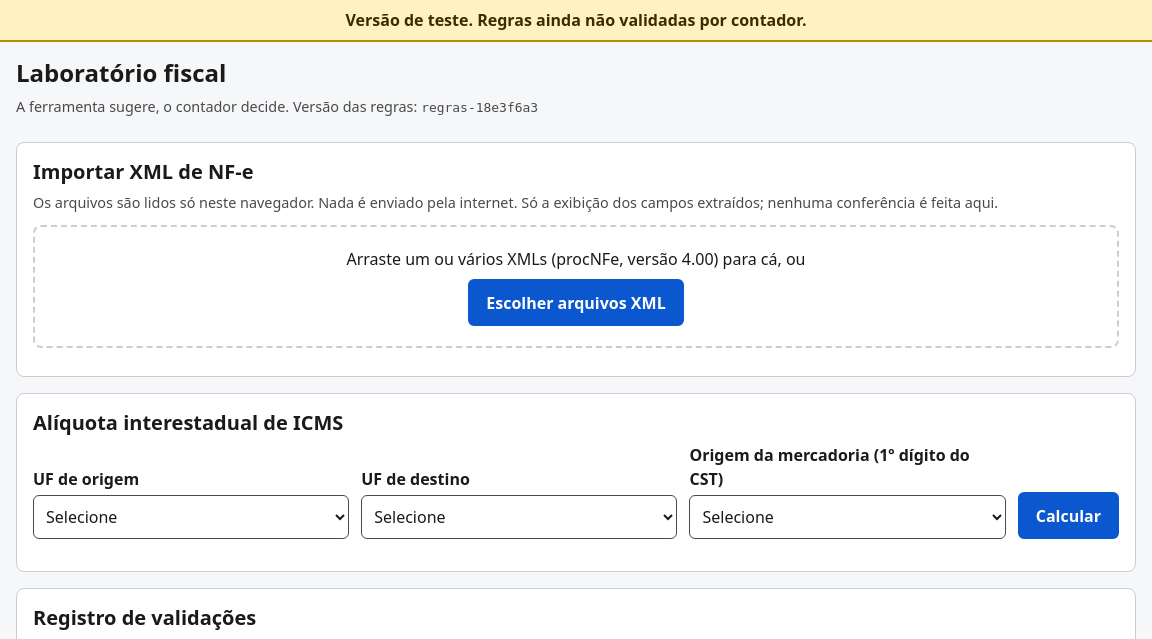
Scenario: Laboratório › mesma UF mostra erro de operação interna
Select "TO" in the dropdown labelled "UF de origem": (191, 517) [33,495,349,539]
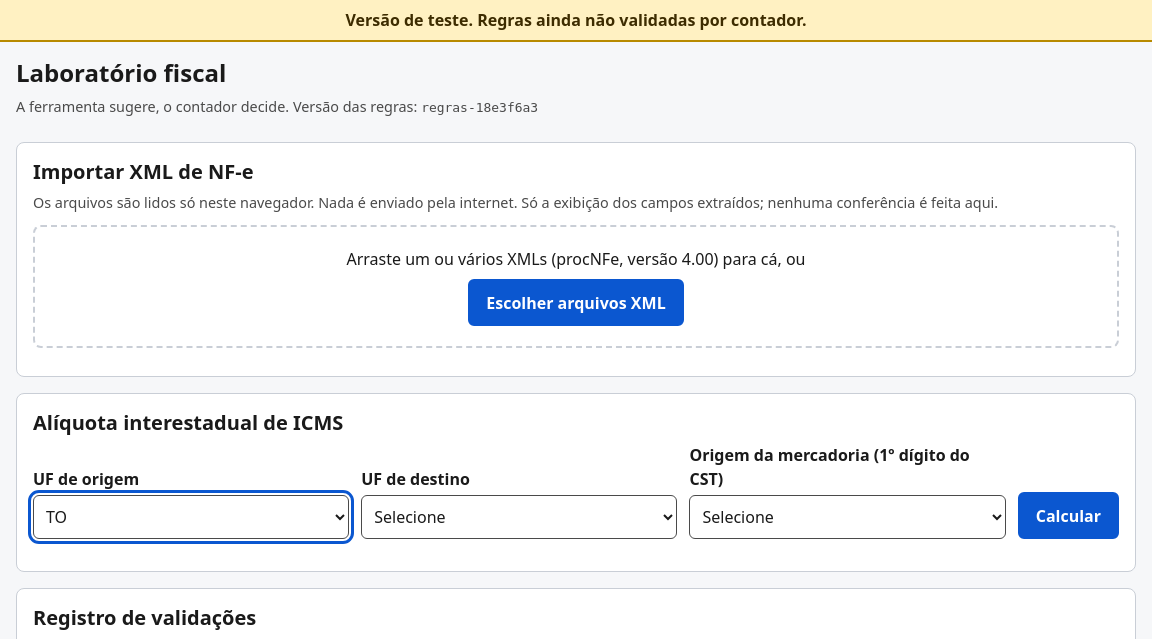
Select "TO" in the dropdown labelled "UF de destino": (519, 517) [361,495,677,539]
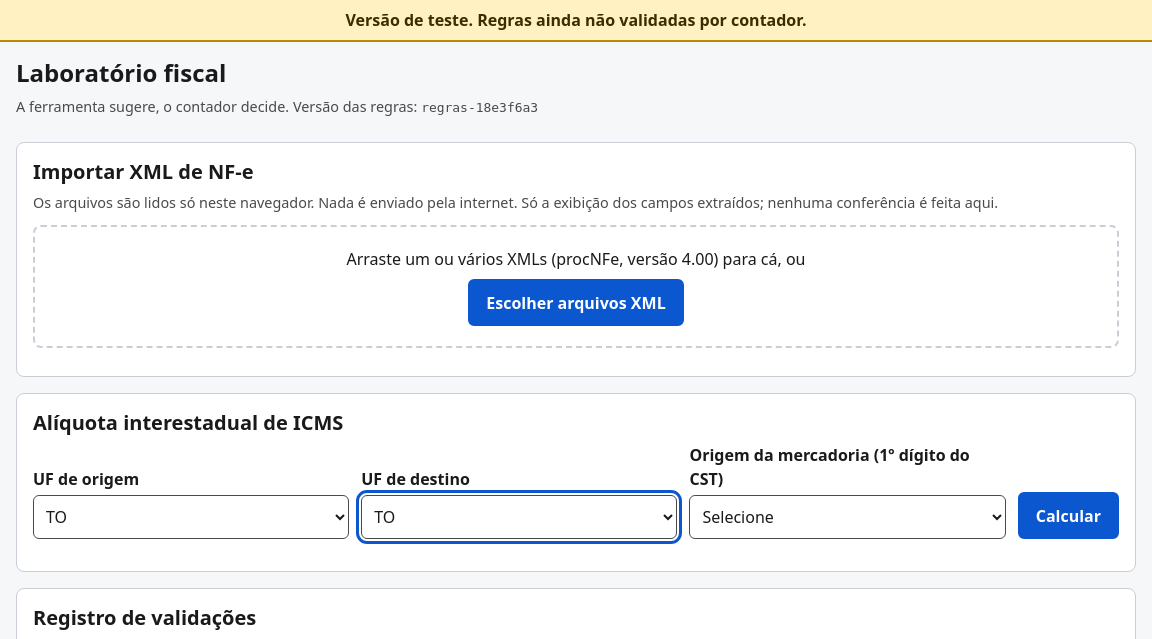
Select "0" in the dropdown labelled "Origem da mercadoria (1º dígito do CST)": (848, 517) [690,495,1006,539]
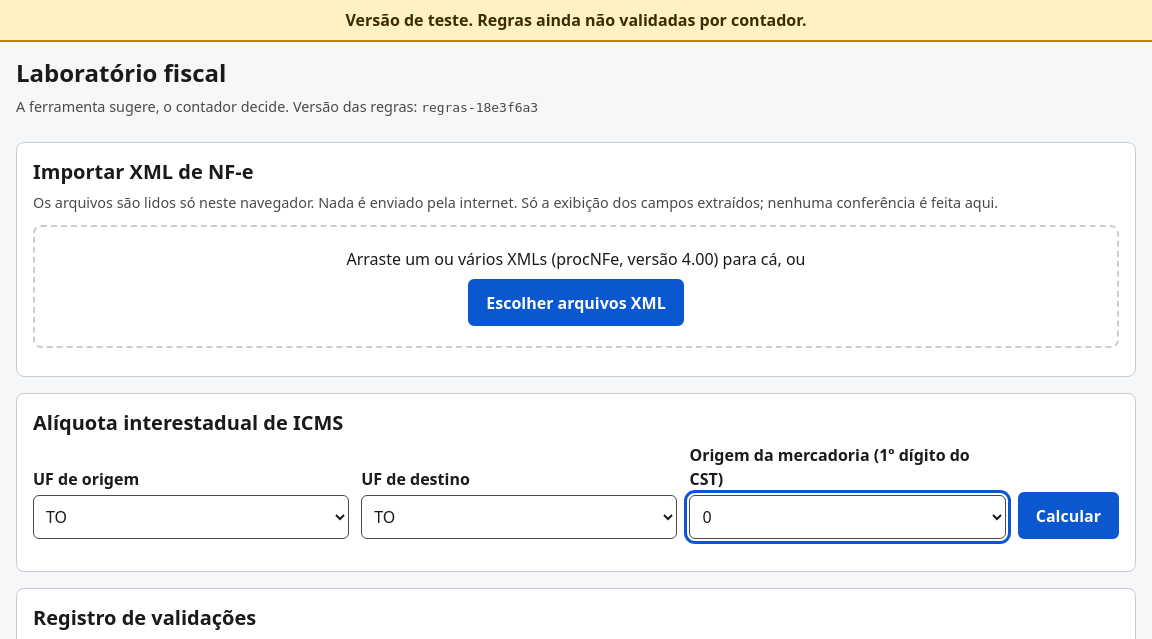
Click the button "Calcular": (1068, 516) [1018,492,1119,539]
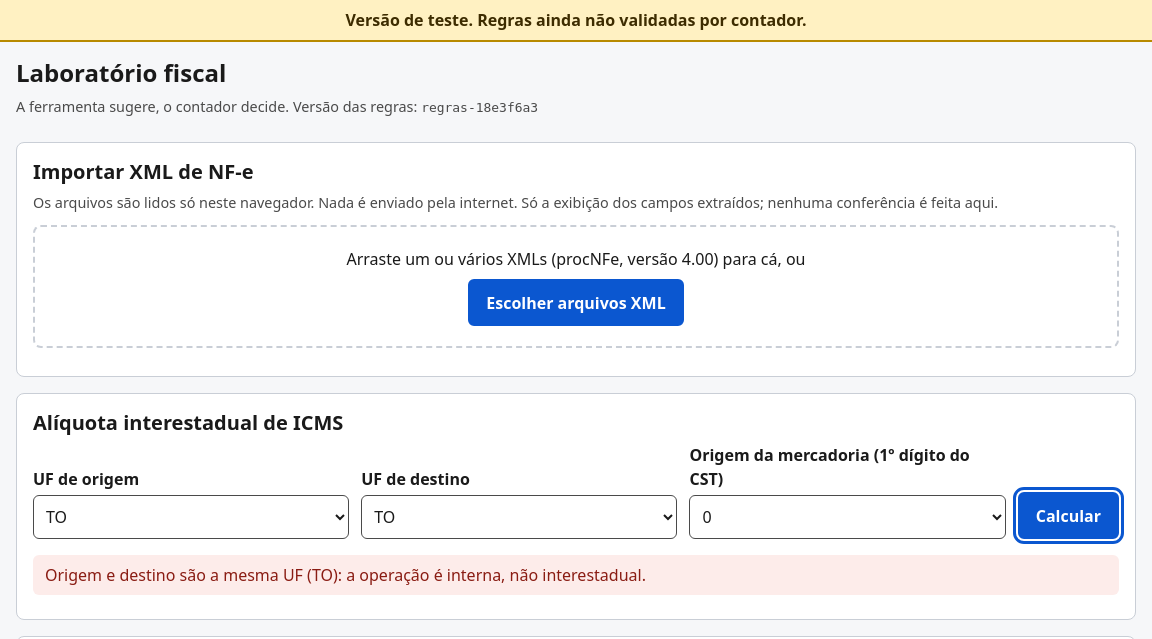
Expected: the message shows "operação é interna", [45,564,646,586]
